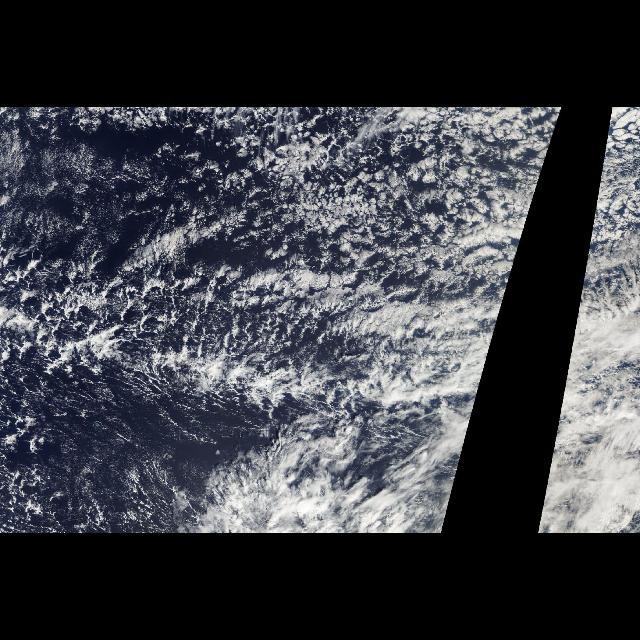Fish: (2, 241, 366, 447)
Gravel: (5, 118, 339, 378)
Sugar: (186, 114, 458, 270), (5, 114, 154, 264)
